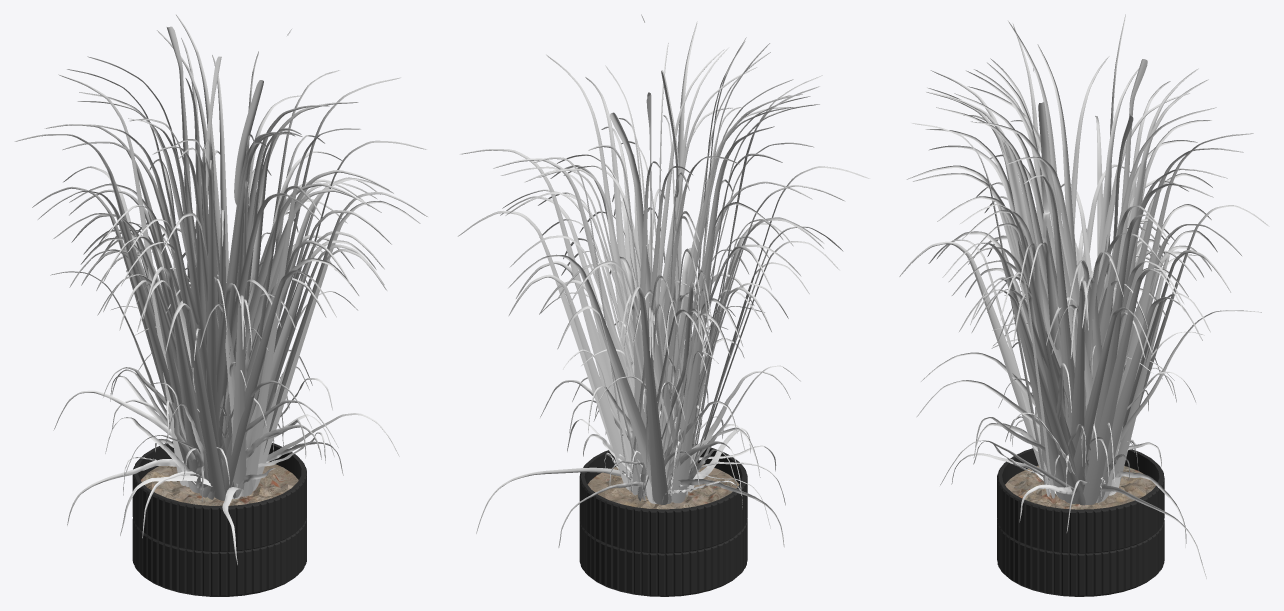
File: fluffy_pampass_grass_2f656baa.glb
3 views of the same model, side by side, from view 1: azimuth 30°, elevation 25°; view 2: azimuth 150°, elevation 25°; view 3: azimuth 270°, elevation 25° (orthographic). The views are drawn at different scales.
Parts seen in each view (by area): view 1: fluffy_pampass_grass_2f656baa; view 2: fluffy_pampass_grass_2f656baa; view 3: fluffy_pampass_grass_2f656baa.
Part boxes in pixels (bbox=[...]): fluffy_pampass_grass_2f656baa: bbox=[15, 14, 428, 596]; fluffy_pampass_grass_2f656baa: bbox=[457, 14, 870, 596]; fluffy_pampass_grass_2f656baa: bbox=[899, 14, 1269, 596].
Bounding box in the file's own units: 0.6971 × 1.05 × 0.6821.
4 materials, 1 textured.
